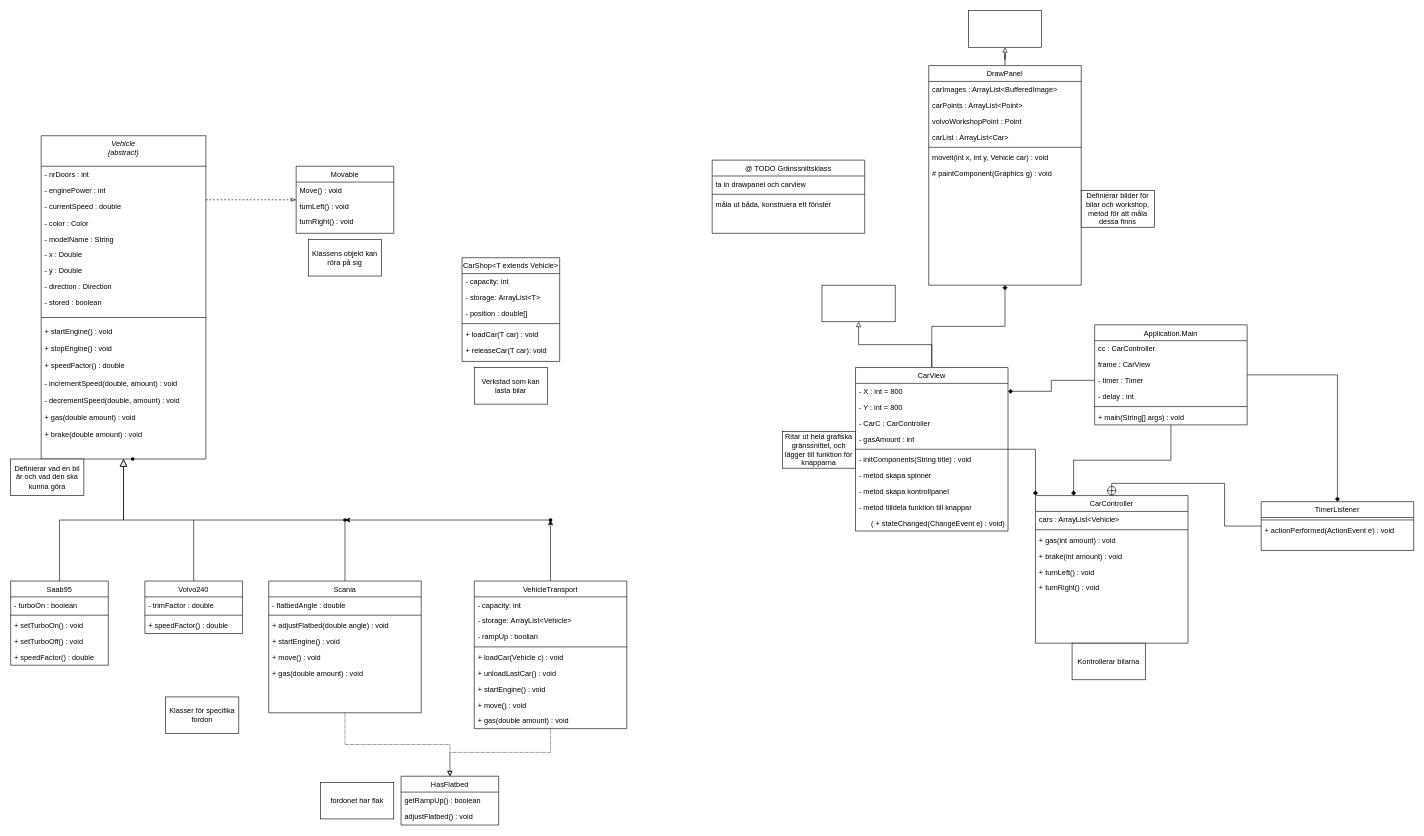
Some shapes in this 1424 by 836 pixel diagram are drawn without their labels. Each missing label, with the centre of its shape:
JFrame: (x=858, y=303)
JPanel: (x=1005, y=28)
